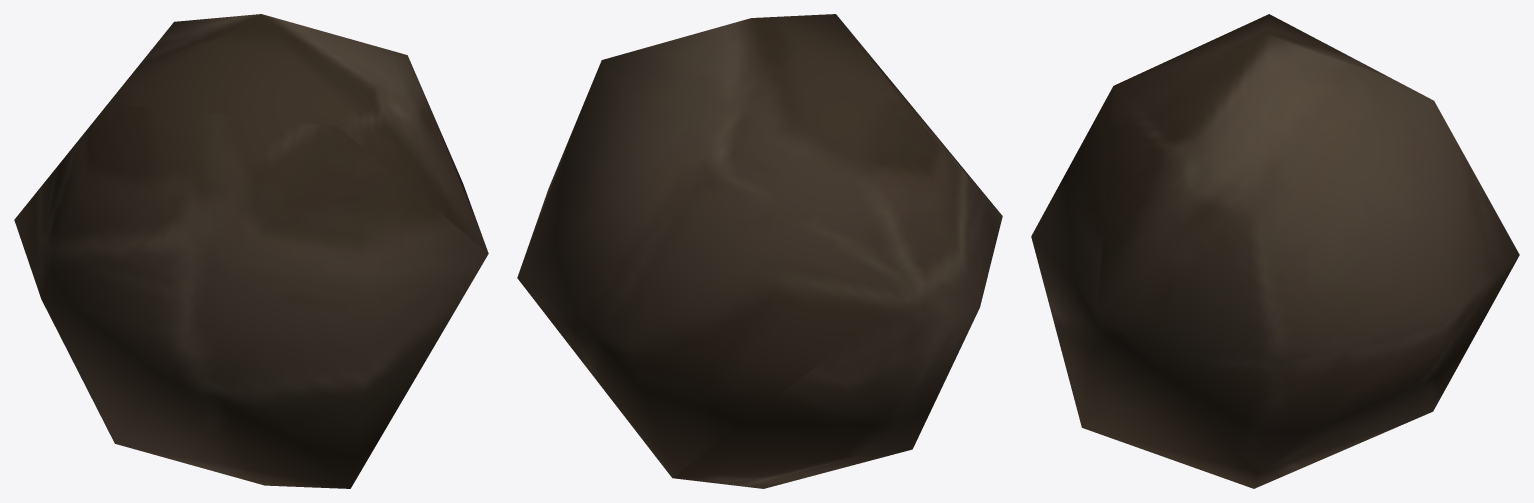
Rendered from stone.FBX.
3 views of the same model, side by side, from view 1: azimuth 30°, elevation 25°; view 2: azimuth 150°, elevation 25°; view 3: azimuth 270°, elevation 25° (orthographic). The views are drawn at different scales.
Visible parts, largest first — view 1: stone; view 2: stone; view 3: stone.
Part boxes in pixels (left/top/right/bottom): stone: left=14, top=14, right=488, bottom=488; stone: left=517, top=14, right=1002, bottom=488; stone: left=1031, top=14, right=1519, bottom=488.
Size of the model in its own units: 3.9 by 4.11 by 3.99.
1 material, 1 textured.
